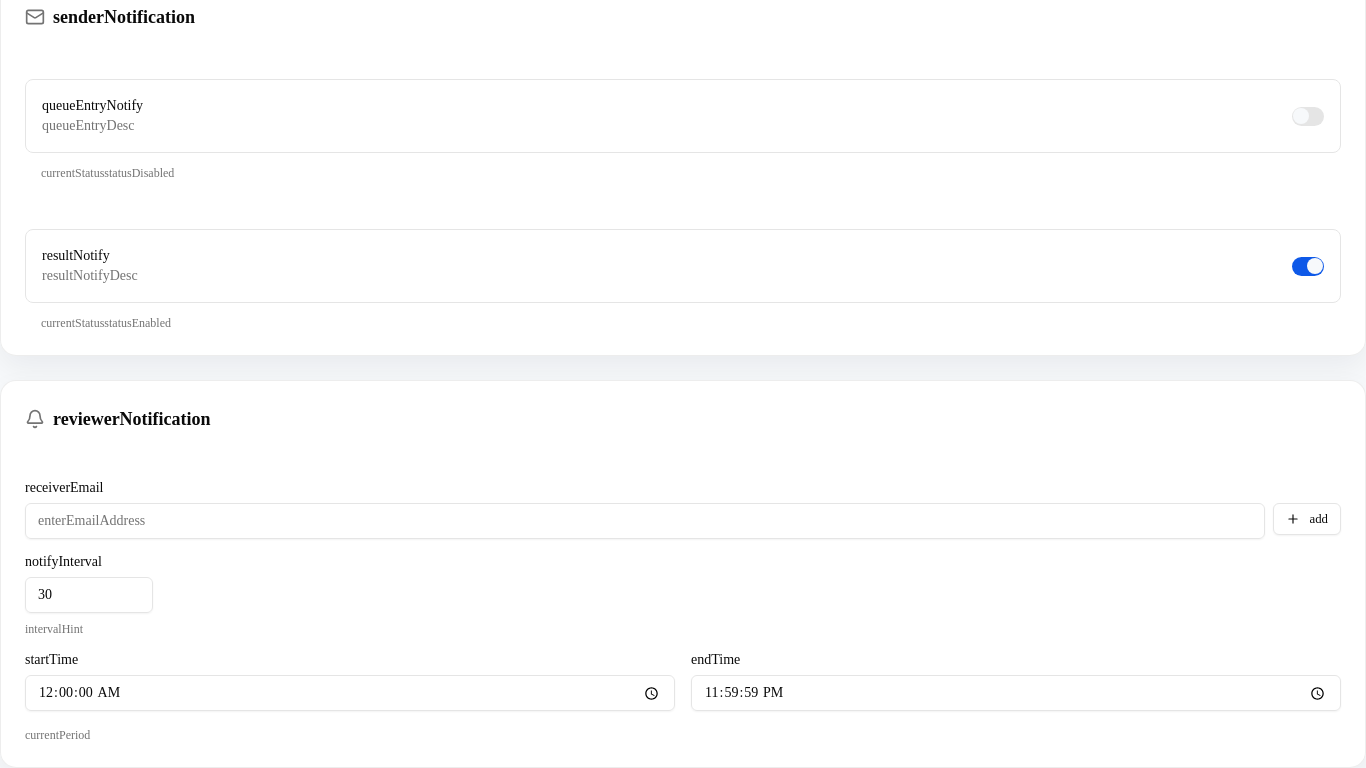
Test case: ReviewSettingsTab reviewer email validation feedback (GT-12250) › shows a format error for an invalid address instead of failing silently
(page scrolled)
In the field with test id "disposal-settings-reviewer-email-input": (645, 521) top-left (25, 503), bottom-right (1264, 539), type "not-an-email"
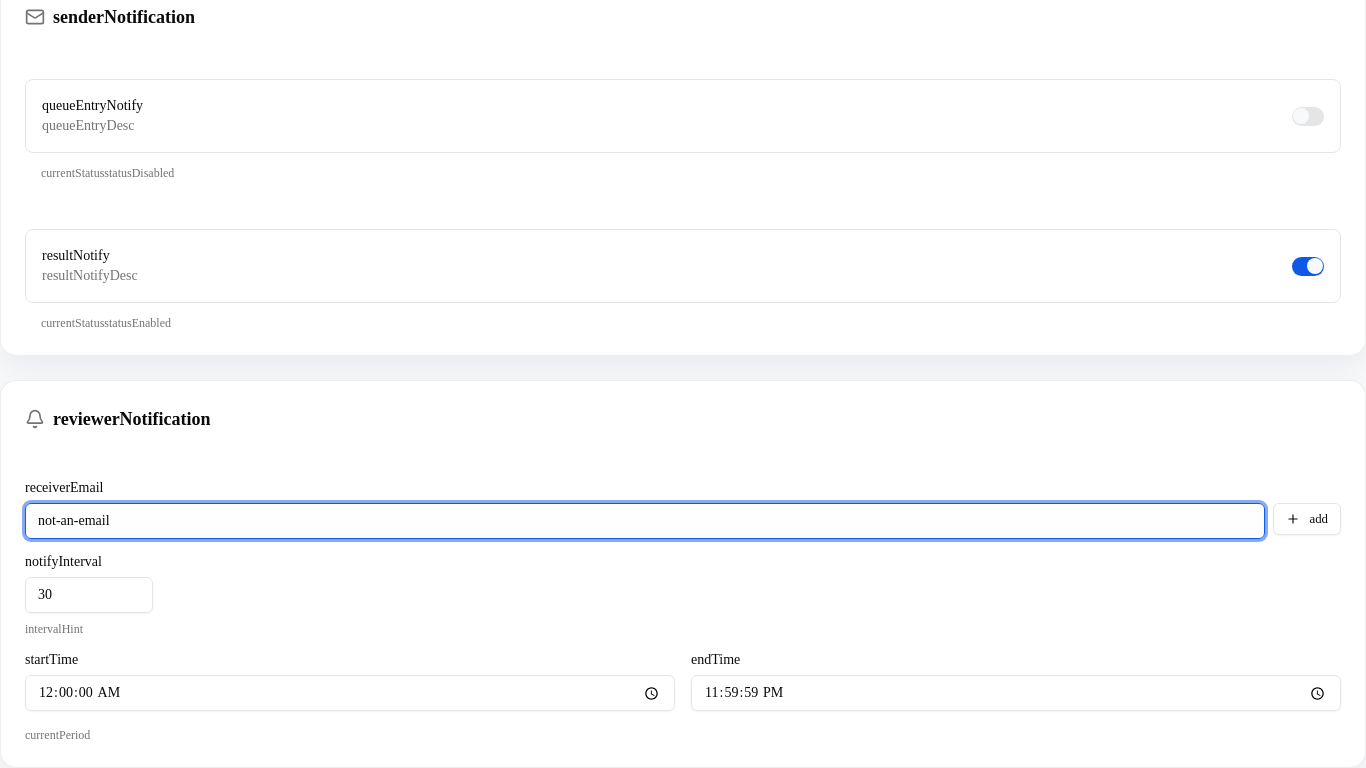
Click the button with test id "disposal-settings-reviewer-email-add": (1307, 519) top-left (1272, 503), bottom-right (1341, 535)
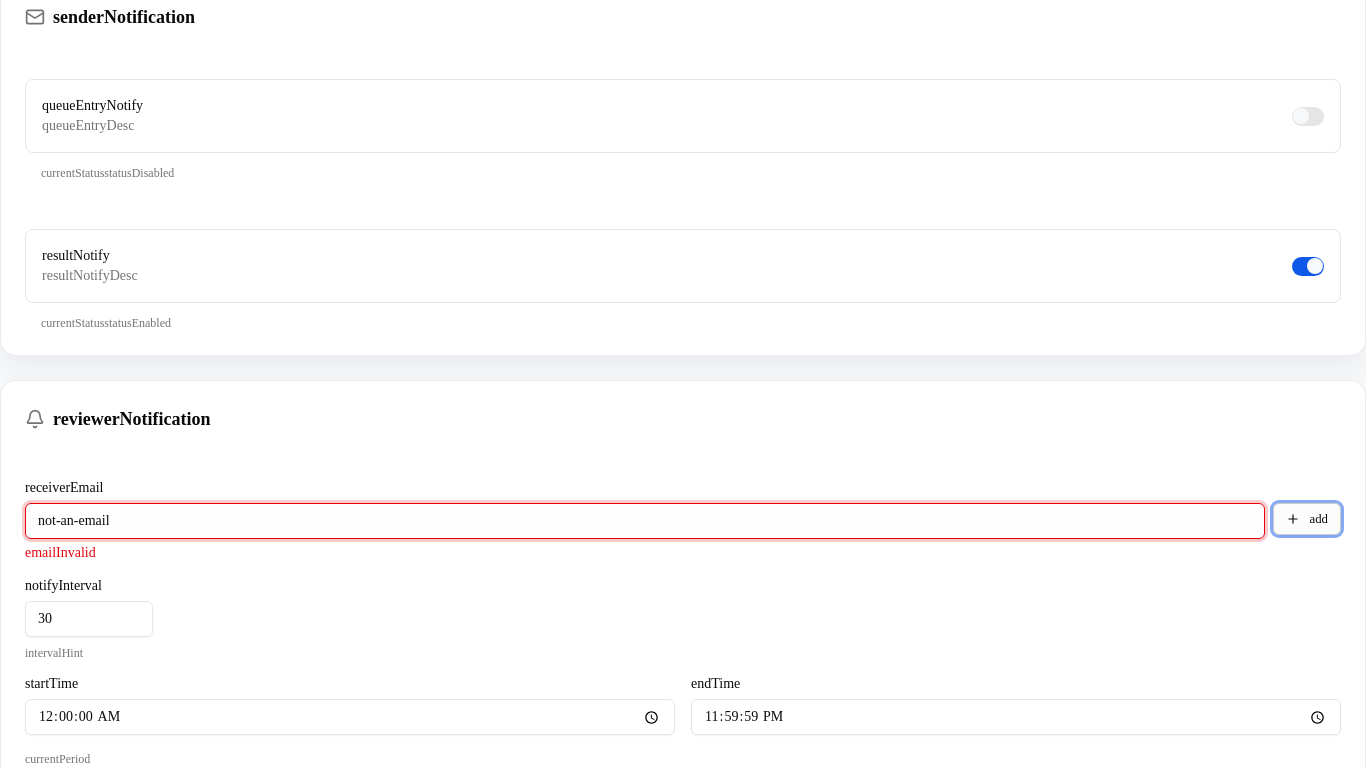
Expected: the message with test id "disposal-settings-reviewer-email-error" reads "emailInvalid", top-left (25, 545), bottom-right (96, 560)
